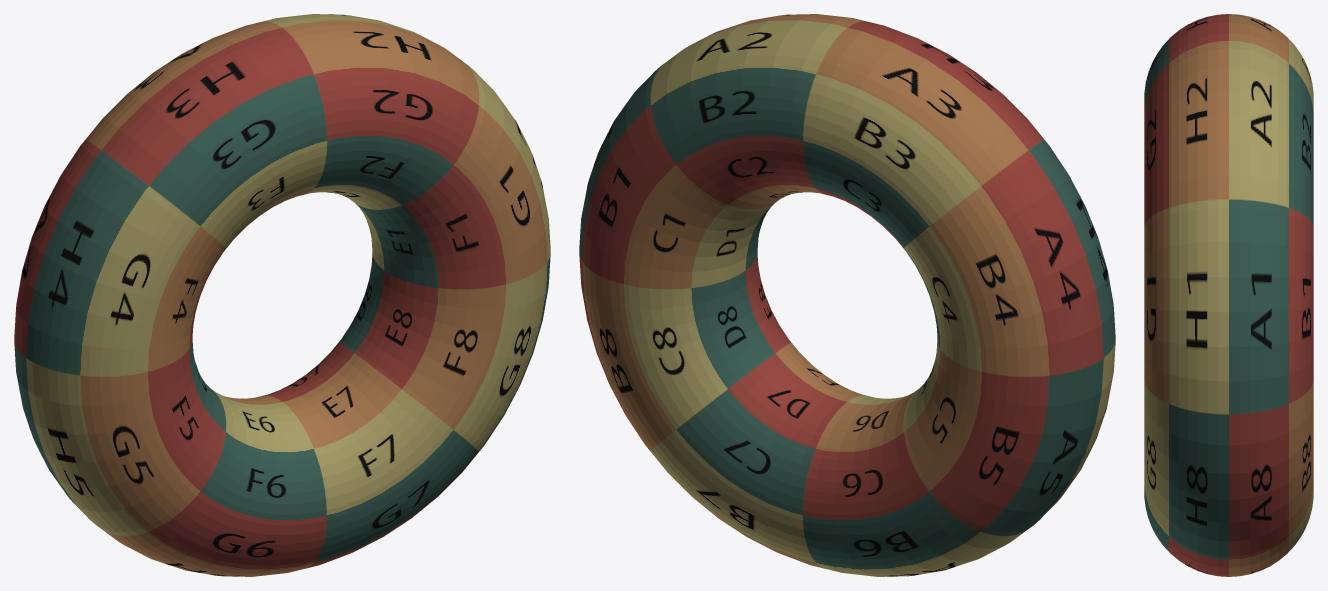
The model's file is texture_torus_R17_r27.glb.
The picture shows the model from 3 angles, left to right: view 1: azimuth 30°, elevation 25°; view 2: azimuth 150°, elevation 25°; view 3: azimuth 270°, elevation 25°; orthographic projection. The views are drawn at different scales.
Visible parts, largest first — view 1: world; view 2: world; view 3: world.
Boxes of the visible parts, <box> form: world: <box>14,14,550,576</box>; world: <box>579,14,1115,576</box>; world: <box>1144,14,1313,576</box>.
Size of the model in its own units: 30.53 by 30.47 by 9.18.
1 material, 1 textured.
